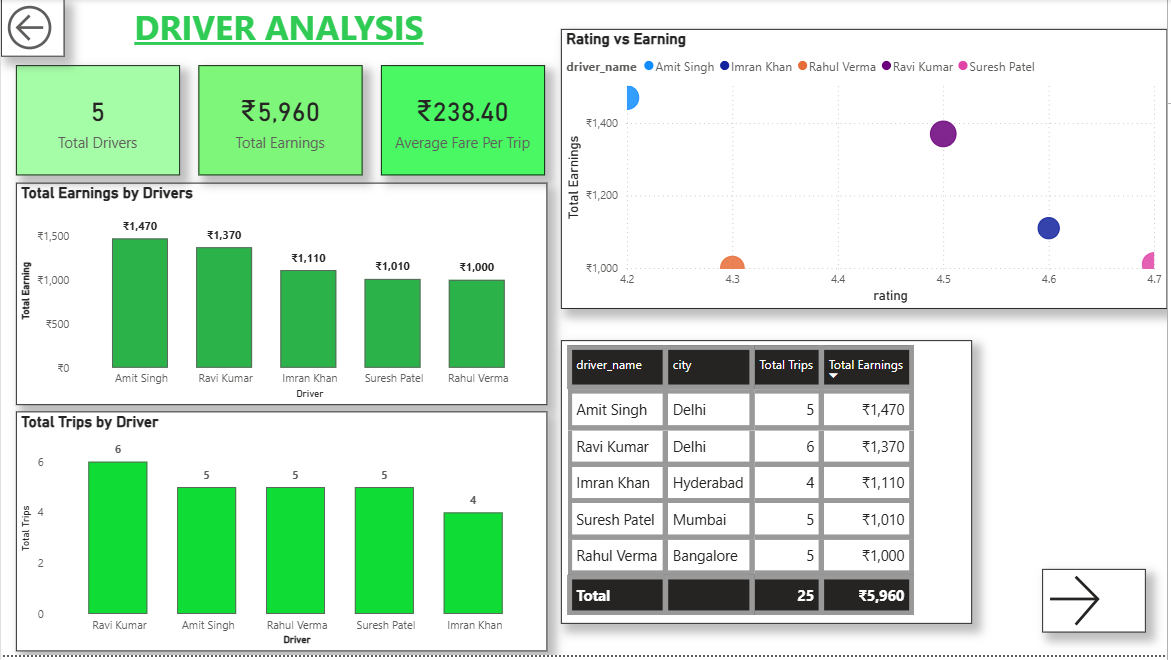

The dashboard page shown, as its layout file describes it:
{"tool":"powerbi","page":{"name":"Page 2","canvas":[1280,720],"ordinal":1},"visuals":[{"type":"textbox","box":[141.3,0,332.1,63.1],"z":0},{"type":"columnChart","title":"Total Earnings by Drivers","fields":{"Category":["drivers (1).driver_name"],"Y":["trips.Total Revenue"]},"box":[16.5,201.7,583.2,244.3],"z":1000},{"type":"card","fields":{"Values":["trips.Total Drivers"]},"box":[16.5,72.8,180,121],"z":2000},{"type":"card","fields":{"Values":["trips.Total Earnings"]},"box":[216.8,72.8,180,121],"z":3000},{"type":"card","fields":{"Values":["trips.Average Fare Per Trip"]},"box":[417.2,72.7,179.8,120.8],"z":4000},{"type":"actionButton","box":[0,0,70,63.1],"z":5000},{"type":"columnChart","title":"Total Trips by Driver","fields":{"Y":["trips.Total Trips"],"Category":["drivers (1).driver_name"]},"box":[16.5,452.8,583.2,263.5],"z":6000},{"type":"tableEx","fields":{"Values":["drivers (1).driver_name","drivers (1).city","trips.Total Trips","trips.Total Earnings"]},"box":[614.8,374.6,451.5,311.5],"z":7000},{"type":"scatterChart","title":"Rating vs Earning","fields":{"X":["drivers (1).rating"],"Y":["trips.Total Earnings"],"Size":["trips.Total Trips"],"Series":["drivers (1).driver_name"]},"box":[614.8,32.9,665.5,307.4],"z":8000},{"type":"actionButton","box":[1143.1,625.7,113.9,70],"z":9000}]}

Visuals, with their boxes in screenshot pixels (x1, y1, x2, y2), scaled from the page's 1280x720 canvas onto the 1171x660 screenshot:
textbox: (129, 0, 433, 58)
"Total Earnings by Drivers" columnChart: (15, 185, 549, 409)
card - trips.Total Drivers: (15, 67, 180, 178)
card - trips.Total Earnings: (198, 67, 363, 178)
card - trips.Average Fare Per Trip: (382, 67, 546, 177)
actionButton: (0, 0, 64, 58)
"Total Trips by Driver" columnChart: (15, 415, 549, 657)
tableEx - drivers (1).driver_name x drivers (1).city: (562, 343, 975, 629)
"Rating vs Earning" scatterChart: (562, 30, 1170, 312)
actionButton: (1046, 574, 1150, 638)
